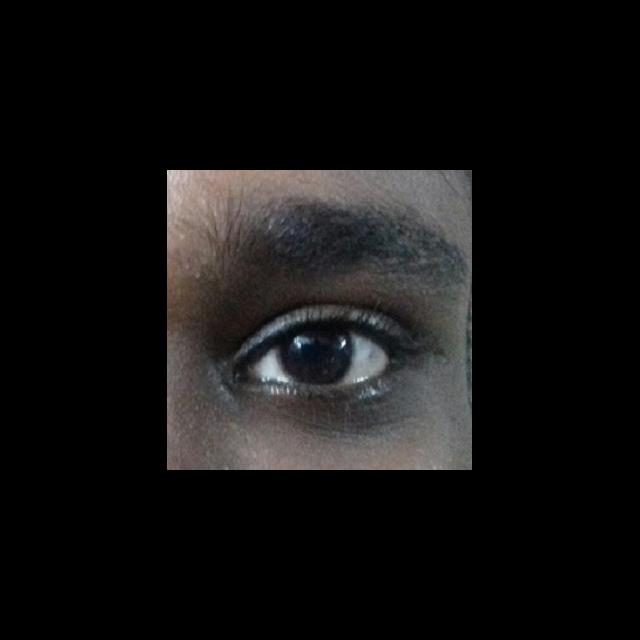eye: (251, 325, 392, 389)
iris: (280, 328, 354, 384)
